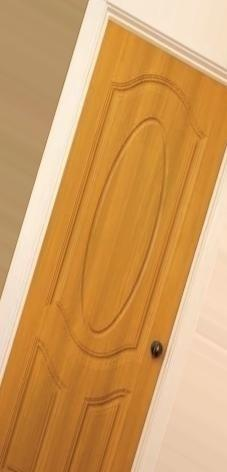door: (0, 10, 227, 472)
